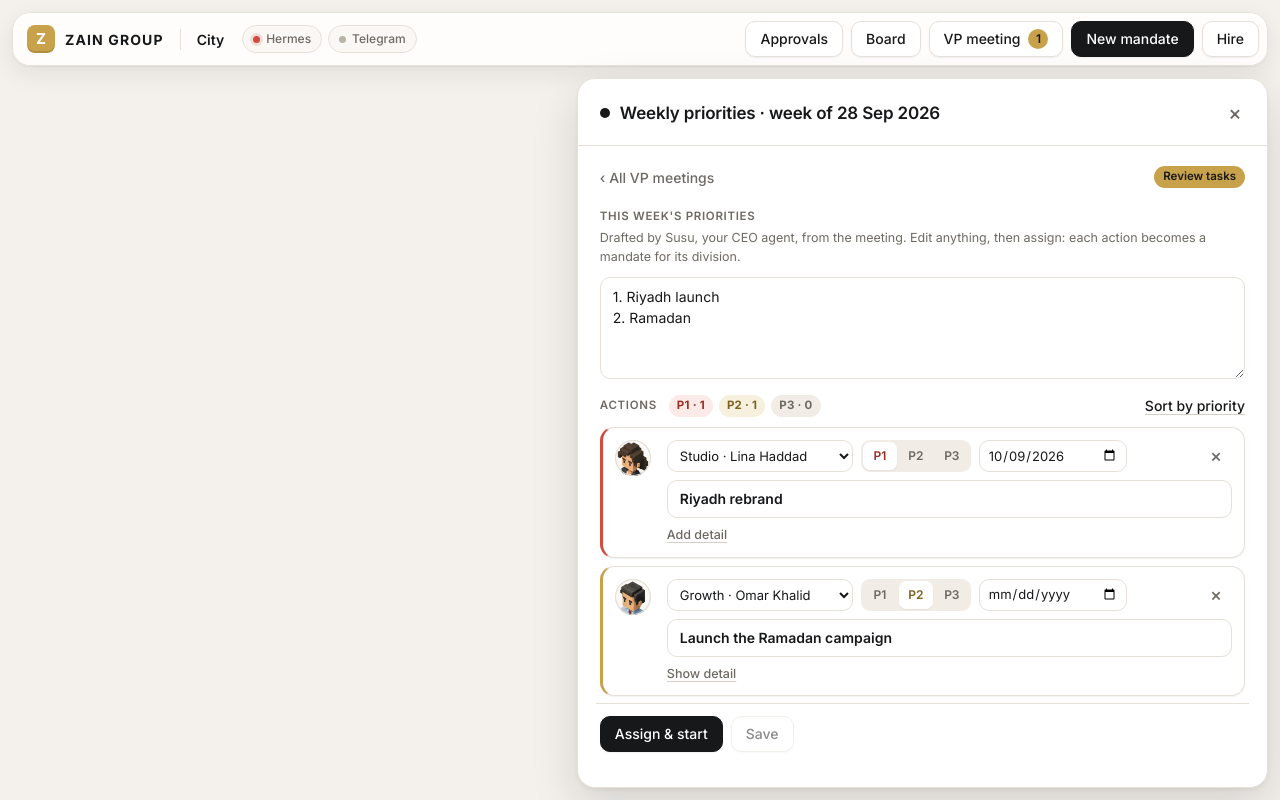
Scenario: Leadership review › saves pending edits before assigning
Type " now" into the field named "Title, action 1".
click(949, 499); type(" now")  # box left=667, top=480, right=1232, bottom=518
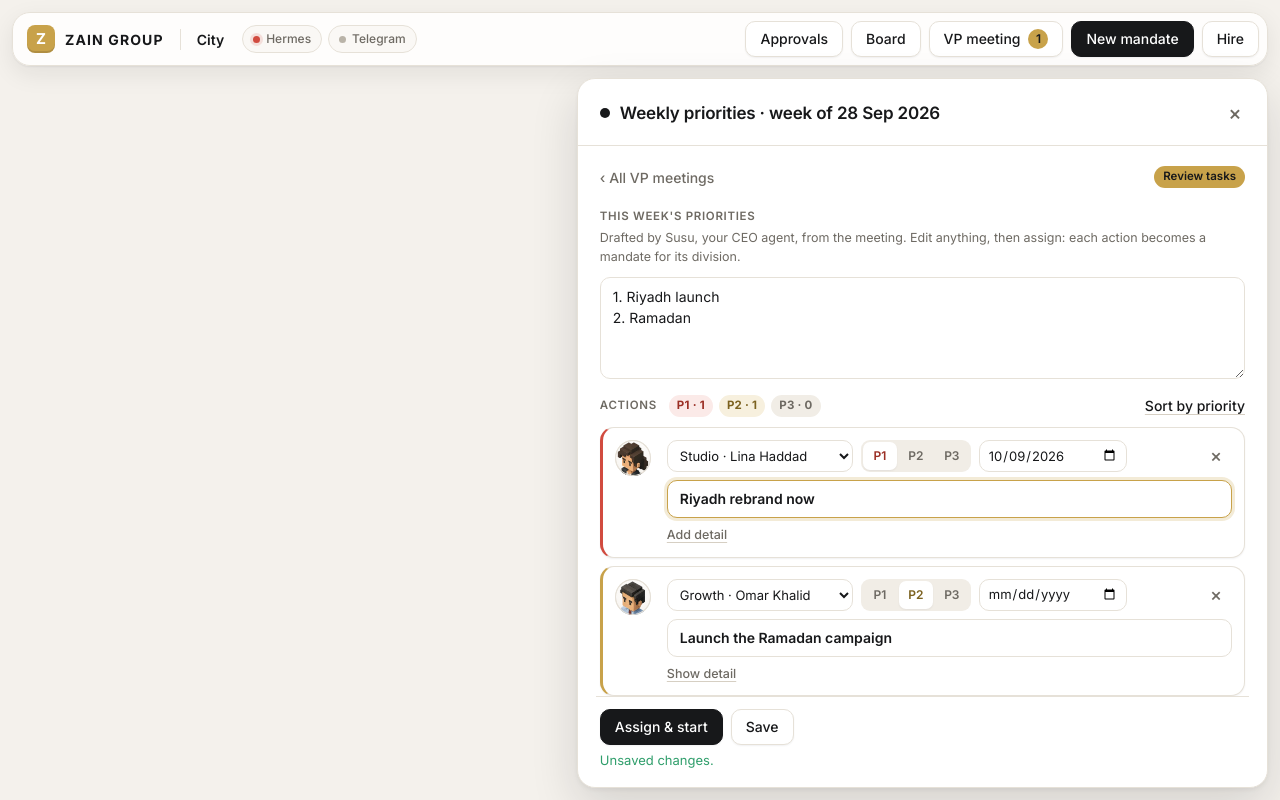
Click the button "Assign & start".
click(661, 728)  # box left=600, top=710, right=723, bottom=746
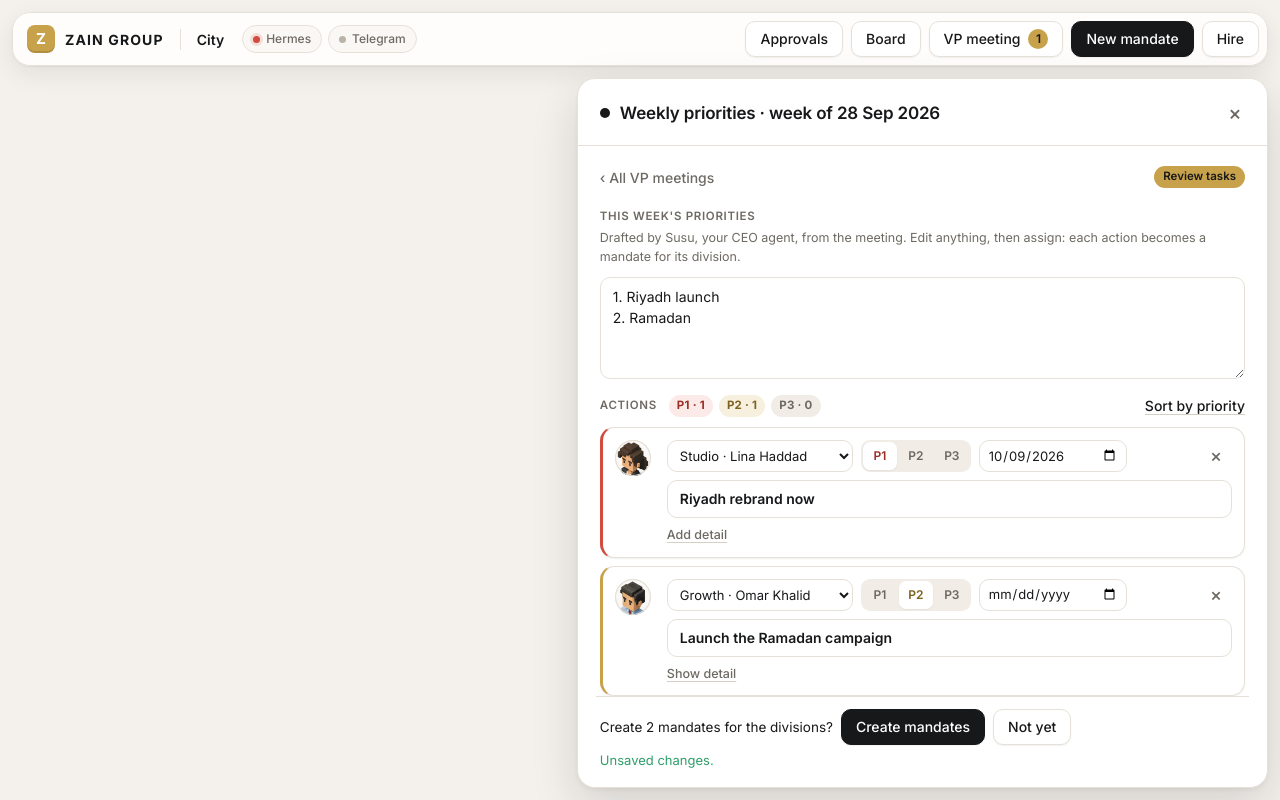
Click the button "Create mandates".
click(913, 728)  # box left=841, top=710, right=985, bottom=746
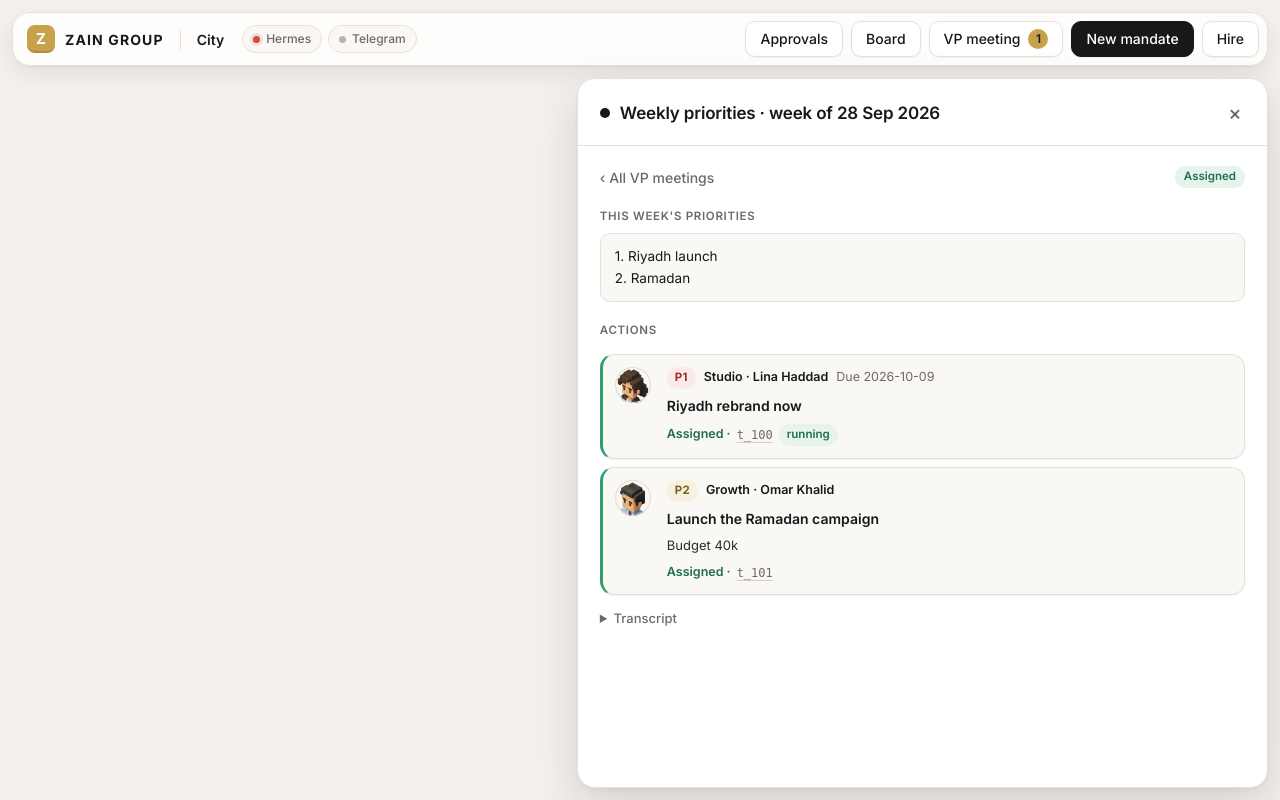
Expected: the element "This week's priorities" is shown, left=600, top=202, right=1245, bottom=302
